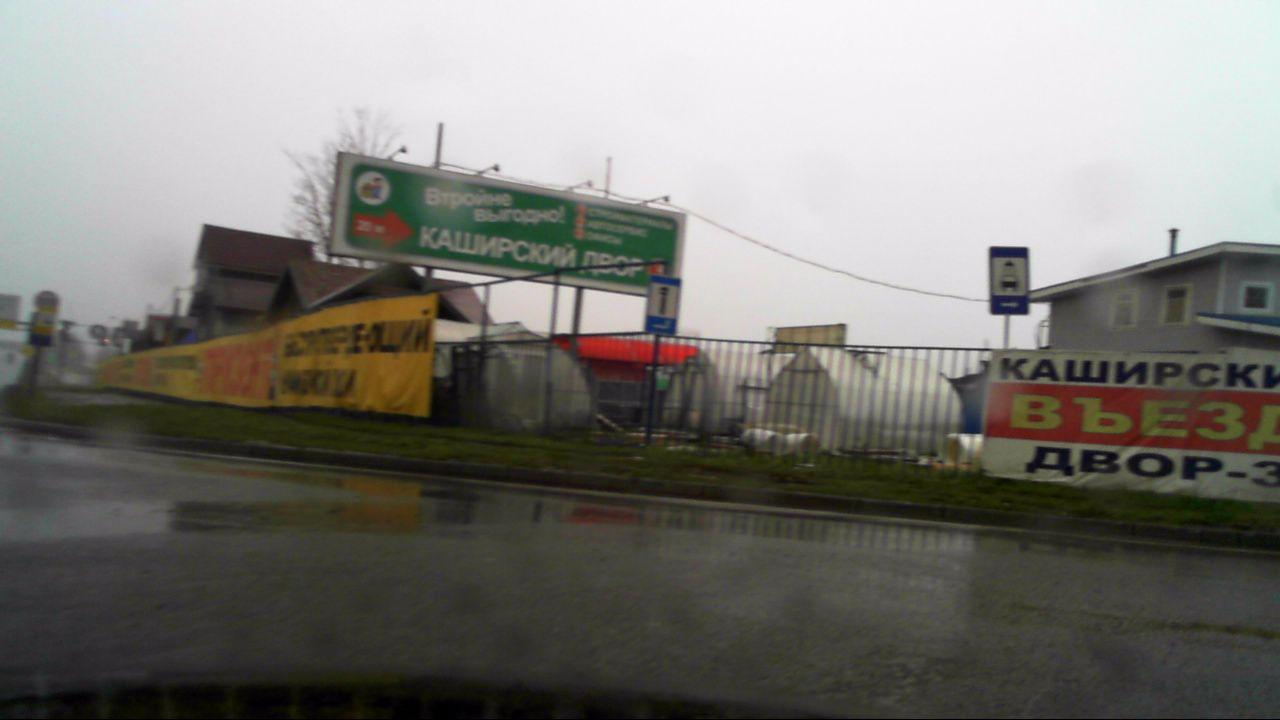3_24: (34, 288, 59, 317)
7_4: (646, 269, 683, 339)
7_5: (989, 246, 1031, 314)
